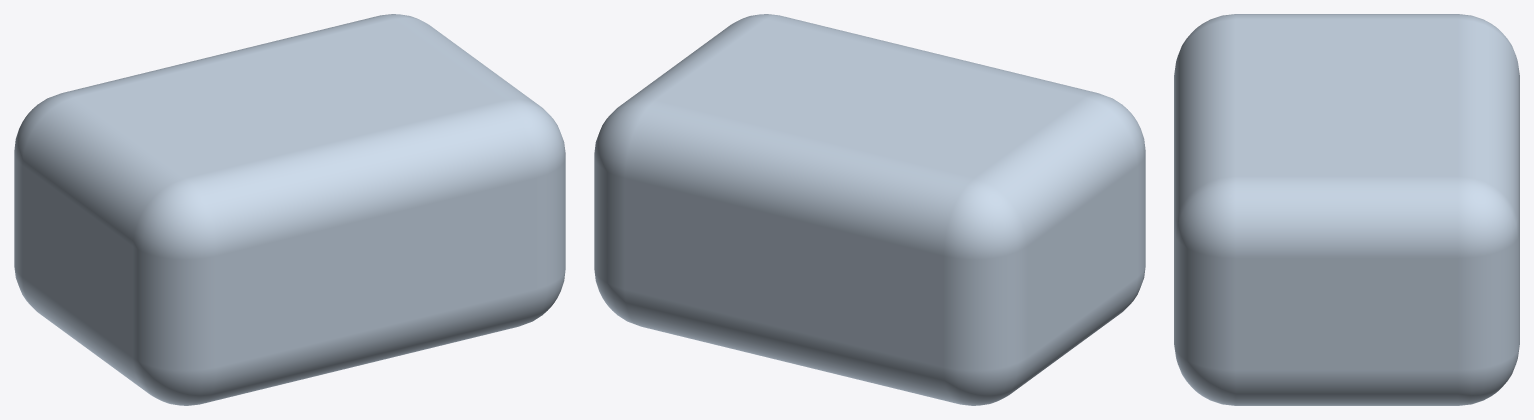
The model's file is example.gltf.
The picture shows the model from 3 angles, left to right: view 1: azimuth 30°, elevation 25°; view 2: azimuth 150°, elevation 25°; view 3: azimuth 270°, elevation 25°; orthographic projection.
Parts seen in each view (by area): view 1: rounded_box; view 2: rounded_box; view 3: rounded_box.
Boxes of the visible parts, box(x1,y1,x2,y2) form: rounded_box: box(14, 14, 565, 405); rounded_box: box(594, 14, 1145, 405); rounded_box: box(1174, 14, 1519, 405).
Bounding box in the file's own units: 2 × 1 × 1.4.
